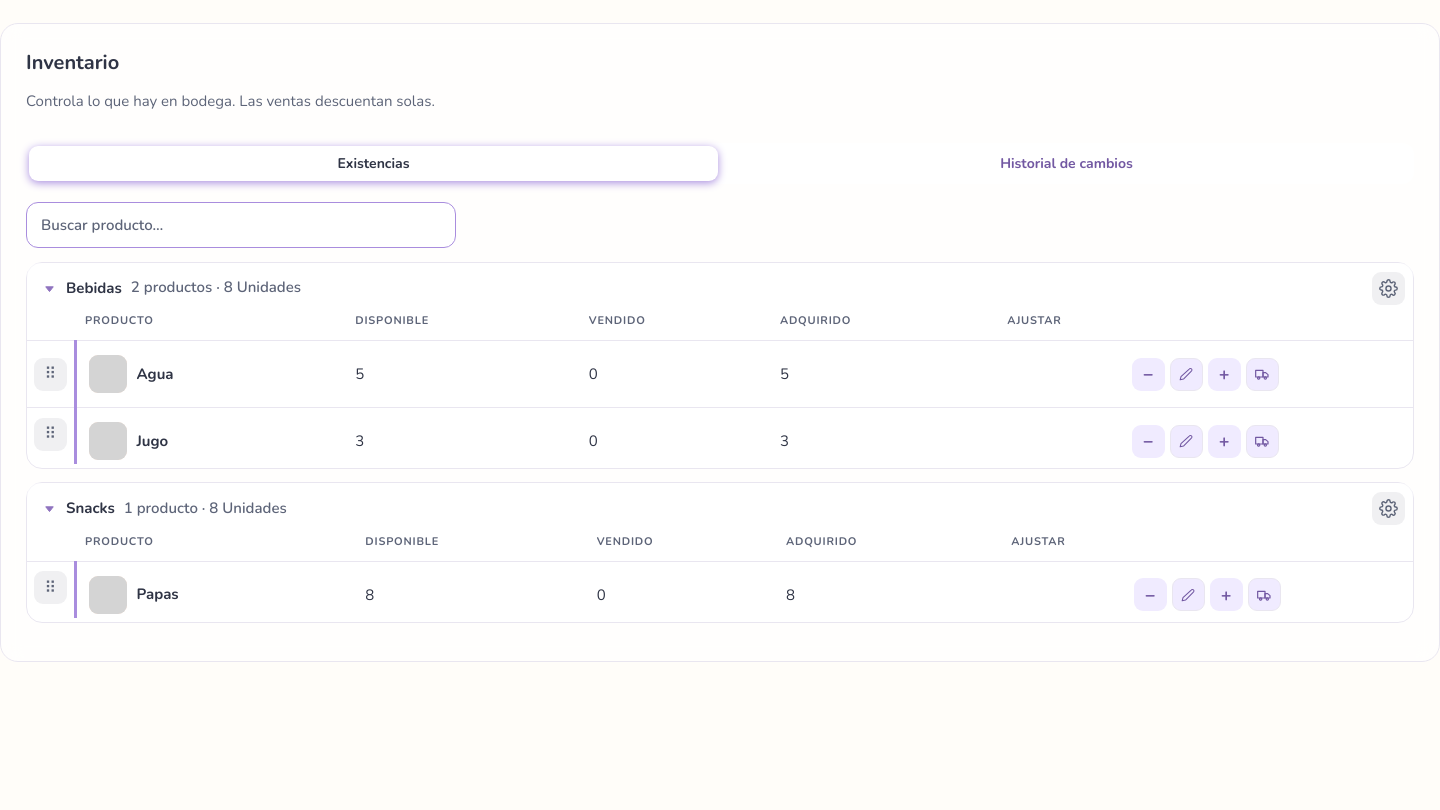
Test: Buscador de productos en Catálogo e Inventario › Inventario: mismo filtro en vivo sobre las existencias (modo Existencias)
The image size is (1440, 810).
Expected: the text "Agua" is shown, [136,364,174,384]
In the search field with placeholder "Buscar producto…": (241, 225) [26,202,456,248], type "jugo"
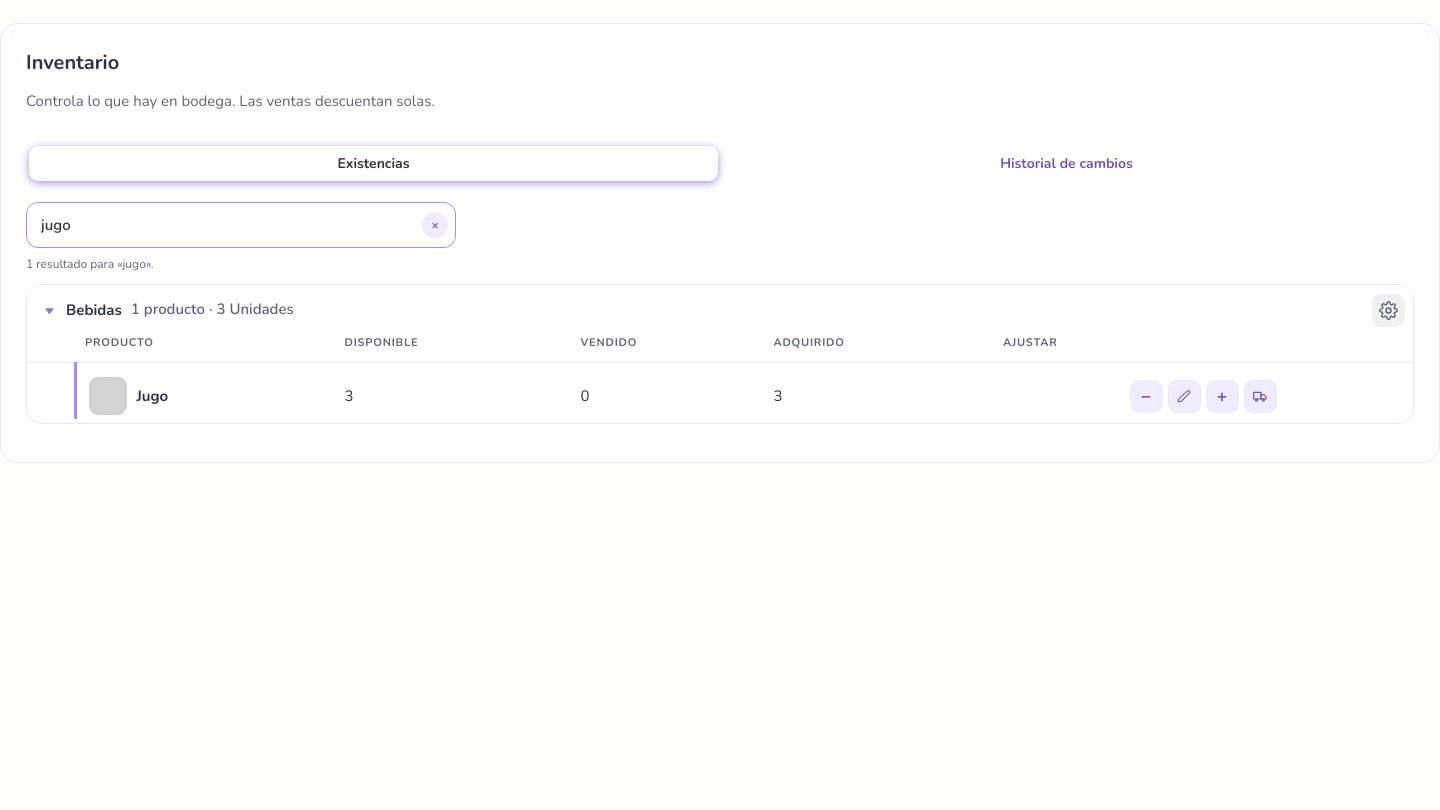
Now the text "Agua" is gone
Now the text "Papas" is gone
Now the text "1 resultado para «jugo»." is shown, box [26,256,154,272]
